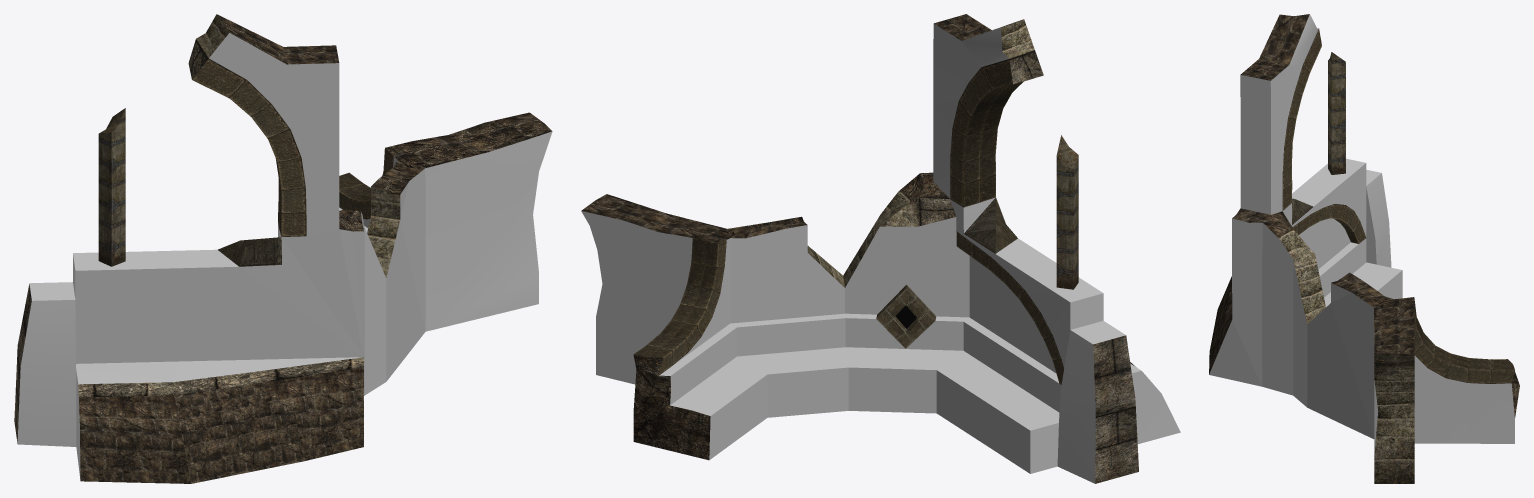
The picture shows the model from 3 angles, left to right: view 1: azimuth 30°, elevation 25°; view 2: azimuth 150°, elevation 25°; view 3: azimuth 270°, elevation 25°; orthographic projection. The views are drawn at different scales.
Visible parts, largest first — view 1: Elements_Labirint_03; view 2: Elements_Labirint_03; view 3: Elements_Labirint_03.
Boxes of the visible parts, x1,y1,x2,y2 form: Elements_Labirint_03: (14, 14, 552, 483); Elements_Labirint_03: (581, 14, 1180, 483); Elements_Labirint_03: (1209, 14, 1519, 483).
Bounding box in the file's own units: 1655 × 1007 × 1171.
